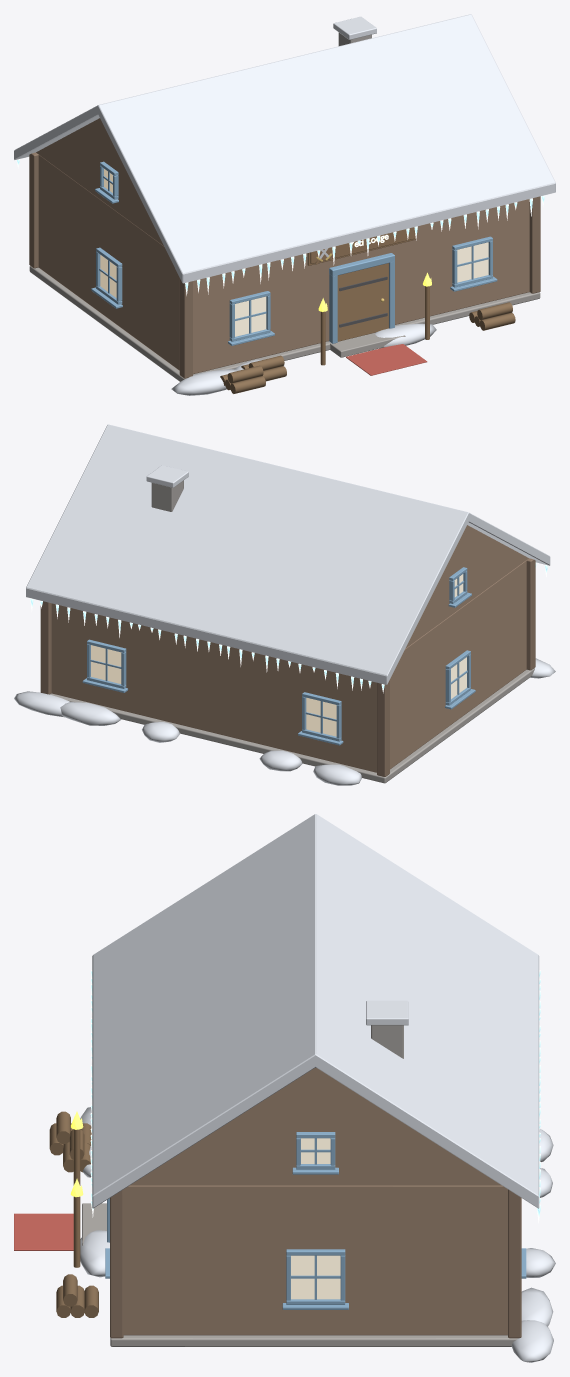
File: yeti_lodge.fbx
The picture shows the model from 3 angles, top to bottom: view 1: azimuth 30°, elevation 25°; view 2: azimuth 150°, elevation 25°; view 3: azimuth 270°, elevation 25°; orthographic projection. The views are drawn at different scales.
Parts seen in each view (by area): view 1: yeti_lodge; view 2: yeti_lodge; view 3: yeti_lodge.
Boxes of the visible parts, box(x1,y1,x2,y2) form: yeti_lodge: box(14, 14, 555, 395); yeti_lodge: box(14, 424, 555, 785); yeti_lodge: box(14, 814, 555, 1362).
Size of the model in its own units: 18.16 by 10.26 by 16.34.
